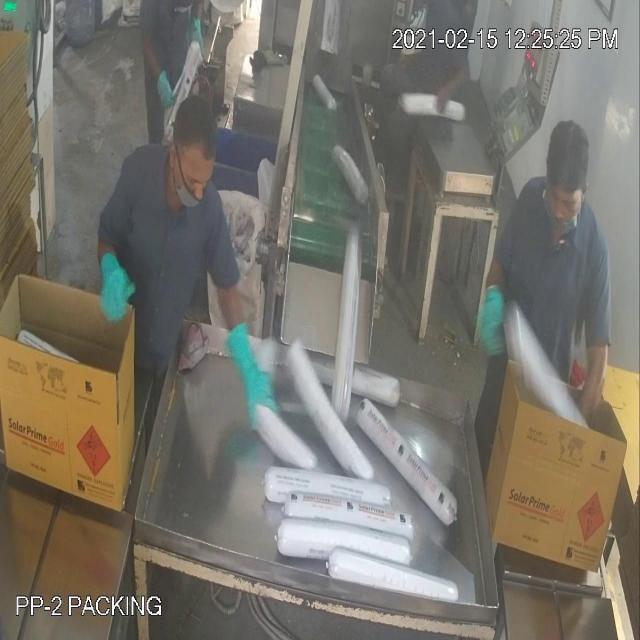Gloves: (33, 50, 596, 378)
